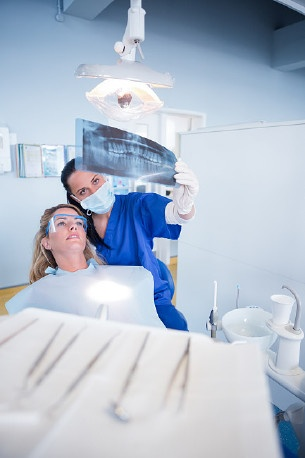Mask: (75, 172, 114, 211)
